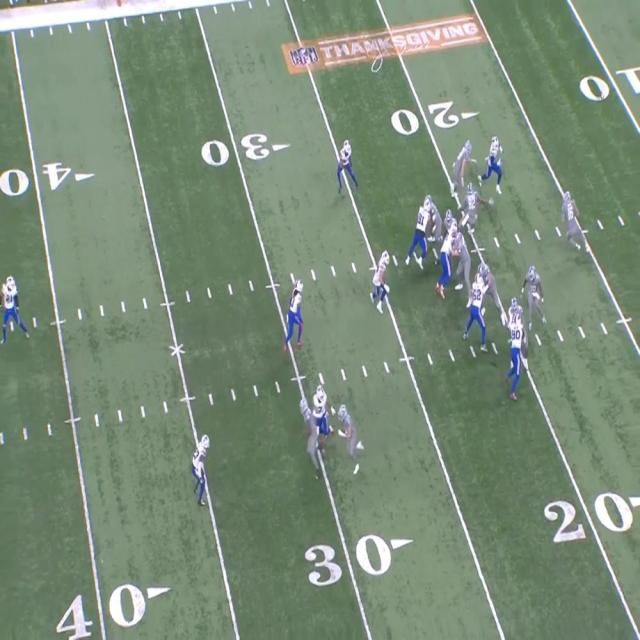db: (2, 272, 24, 340), (195, 435, 213, 504), (291, 276, 305, 346), (315, 379, 331, 436), (341, 139, 355, 193)
lb: (375, 250, 392, 311)
qb: (566, 192, 581, 249)
skill: (340, 397, 360, 467), (300, 397, 319, 467), (526, 267, 544, 324), (453, 140, 470, 195), (464, 182, 480, 233)
